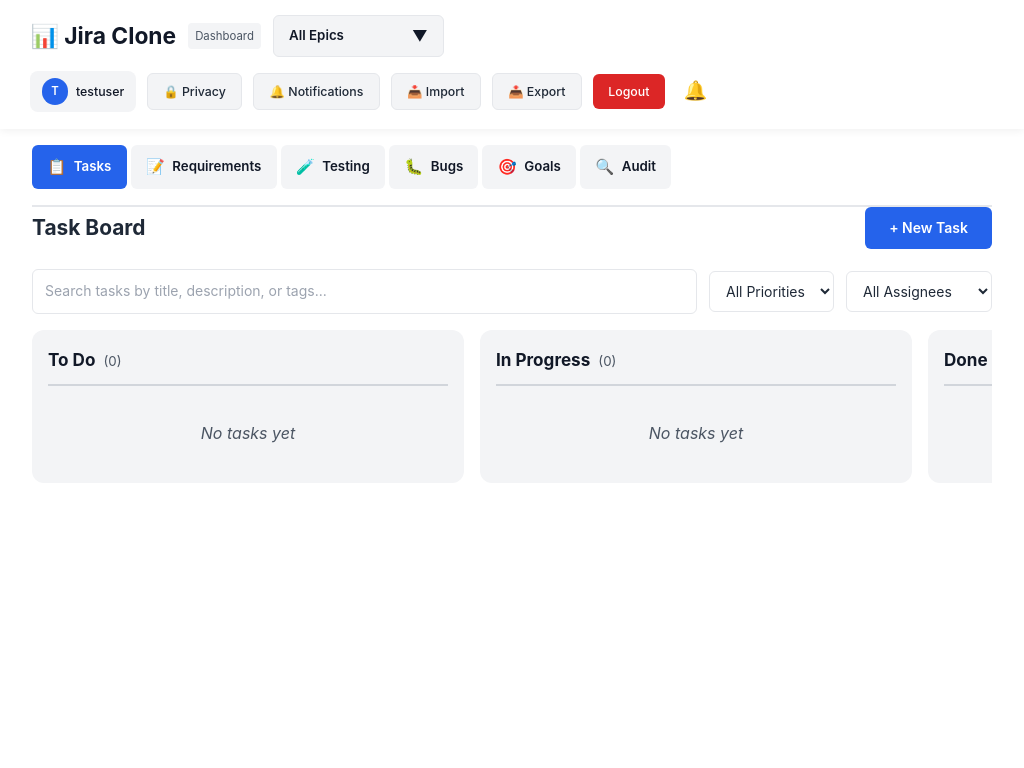
Scenario: DashboardLayout › Task Management › should not create task with empty title
The image size is (1024, 768).
Click the button "+ New Task": (929, 228) [865,207,992,249]
(page scrolled)
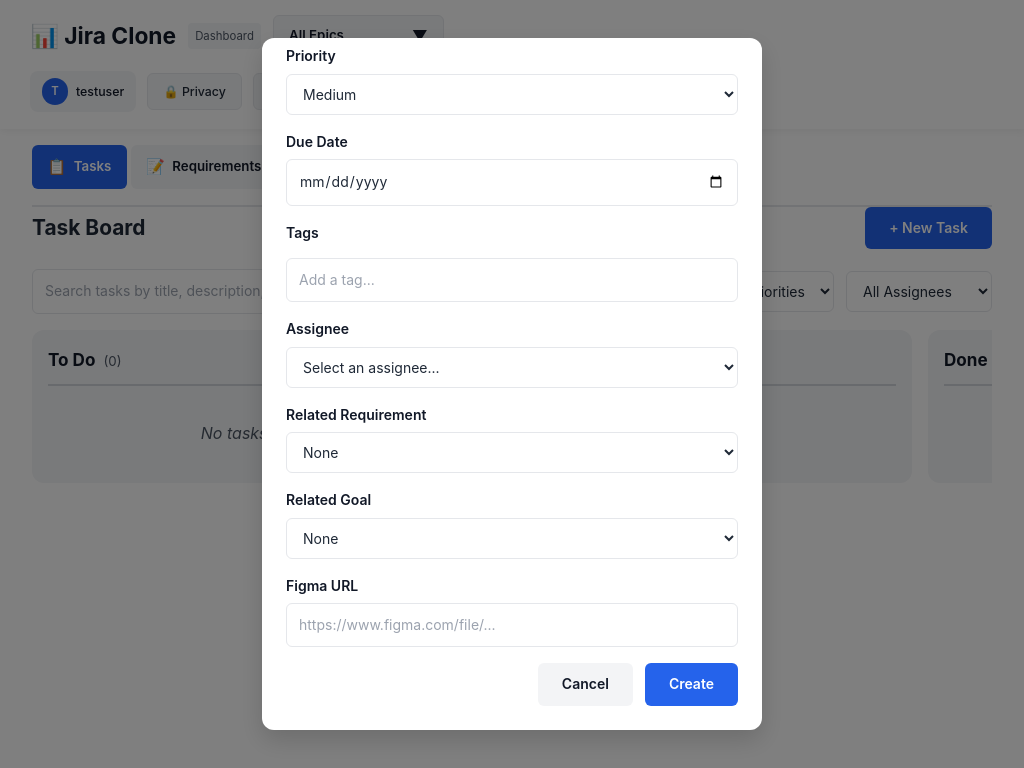
Click the button "Create": (691, 684) [645,663,738,706]
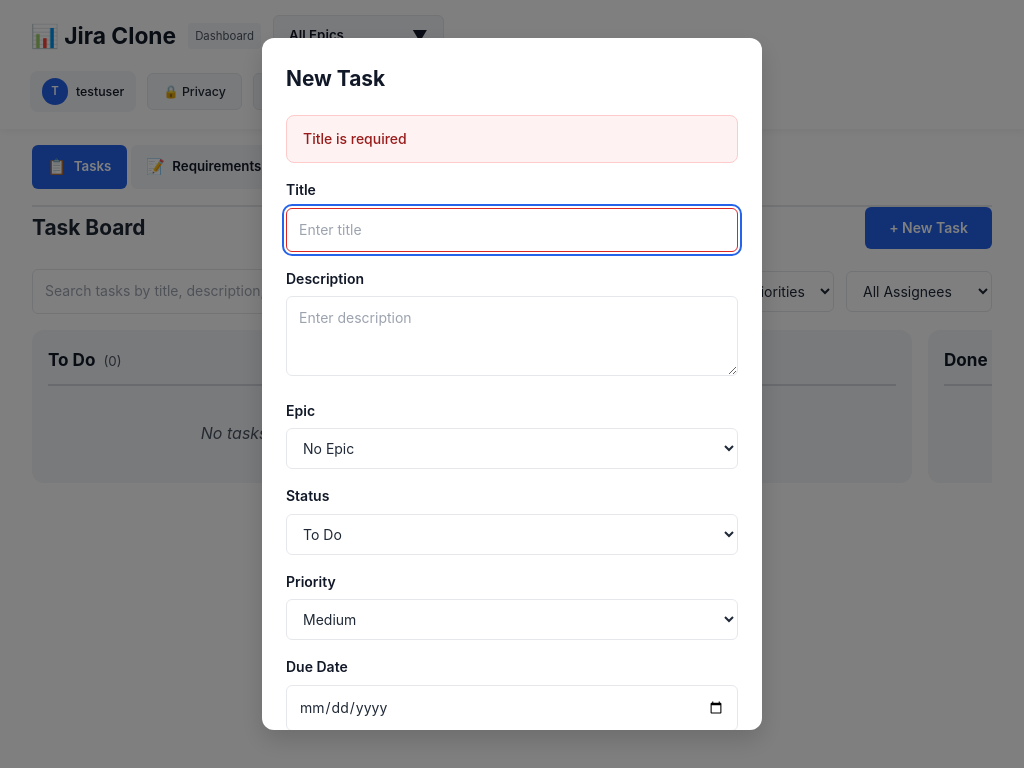
Result: the heading "New Task" is shown at [286,66,385,91]
